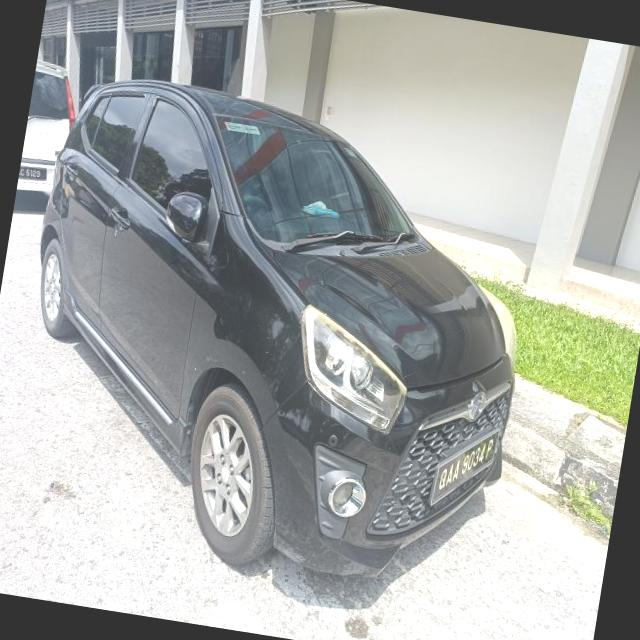PeroduaAxia: (0, 63, 556, 606)
